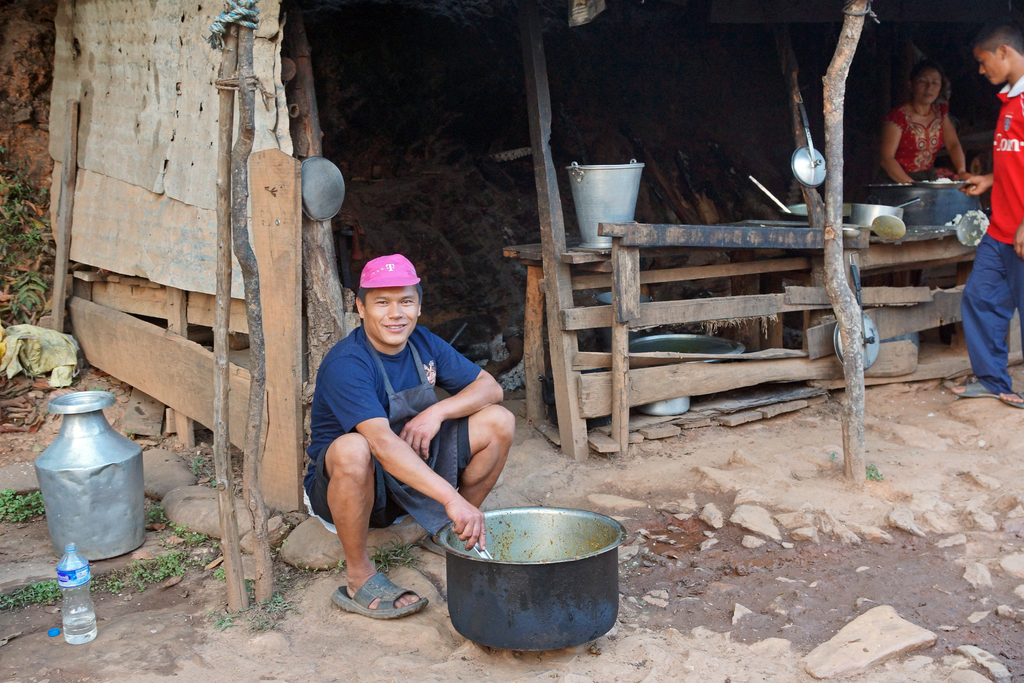can: (299, 252, 517, 610), (948, 12, 1024, 405)
